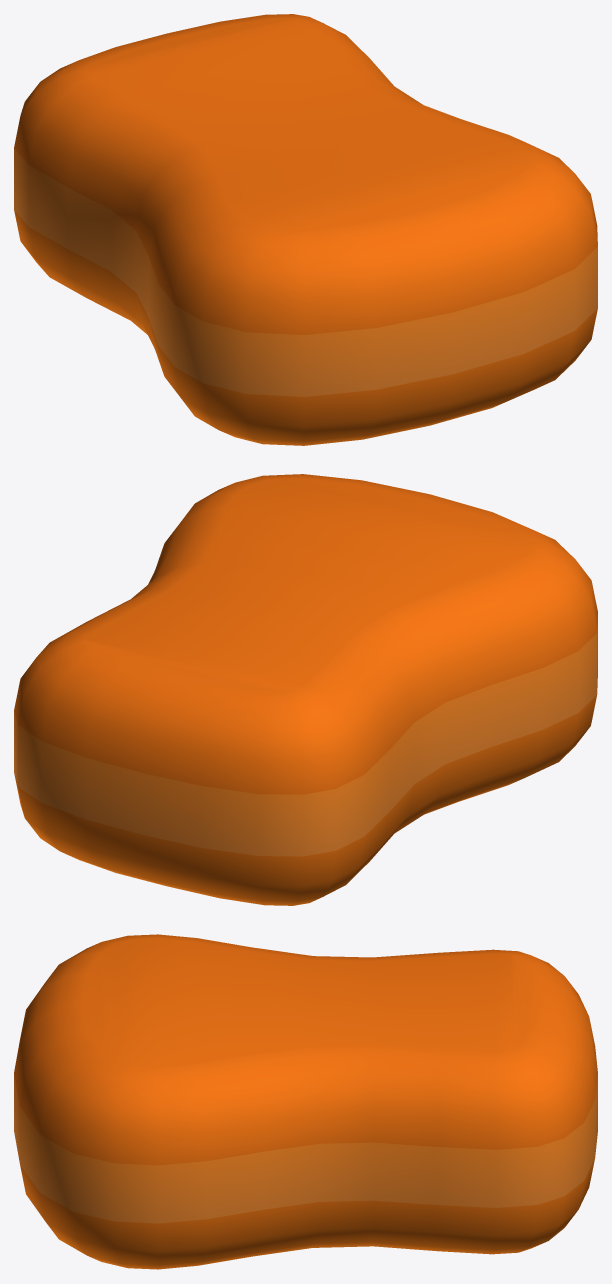
The model's file is Loofah_01.glb.
3 views of the same model, one above another, from view 1: azimuth 30°, elevation 25°; view 2: azimuth 150°, elevation 25°; view 3: azimuth 270°, elevation 25° (orthographic). The views are drawn at different scales.
Parts seen in each view (by area): view 1: Loofah_01; view 2: Loofah_01; view 3: Loofah_01.
Part boxes in pixels (x1,y1,x2,y2): Loofah_01: (14, 14, 597, 445); Loofah_01: (14, 474, 597, 905); Loofah_01: (14, 934, 597, 1269).
Size of the model in its own units: 0.1111 by 0.0555 by 0.1482.
Materials: 1 (1 with a texture image).
